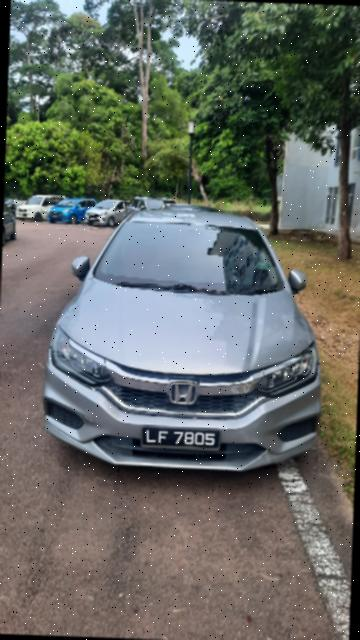License_Plate: (133, 421, 226, 462)
car: (25, 199, 334, 484)
